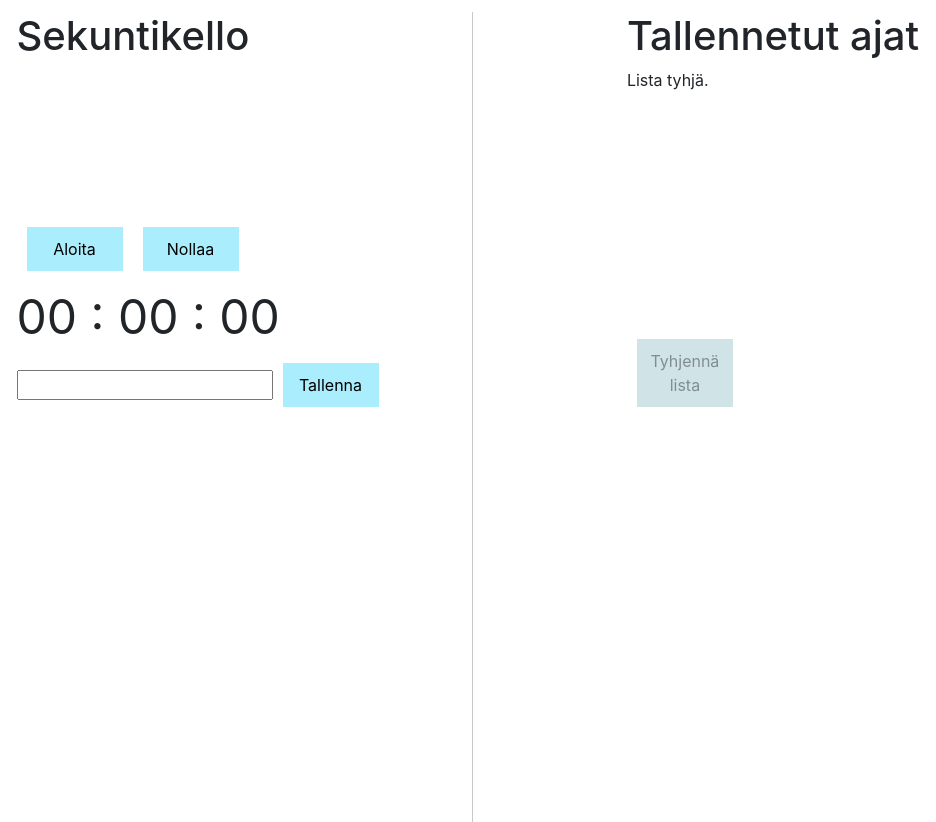
timer starts
The image size is (936, 822).
Expected: the text with test id "display" reads "00 : 00 : 00", [16, 287, 280, 346]
Click the button "Aloita".
click(74, 249)  # box [26, 227, 122, 271]
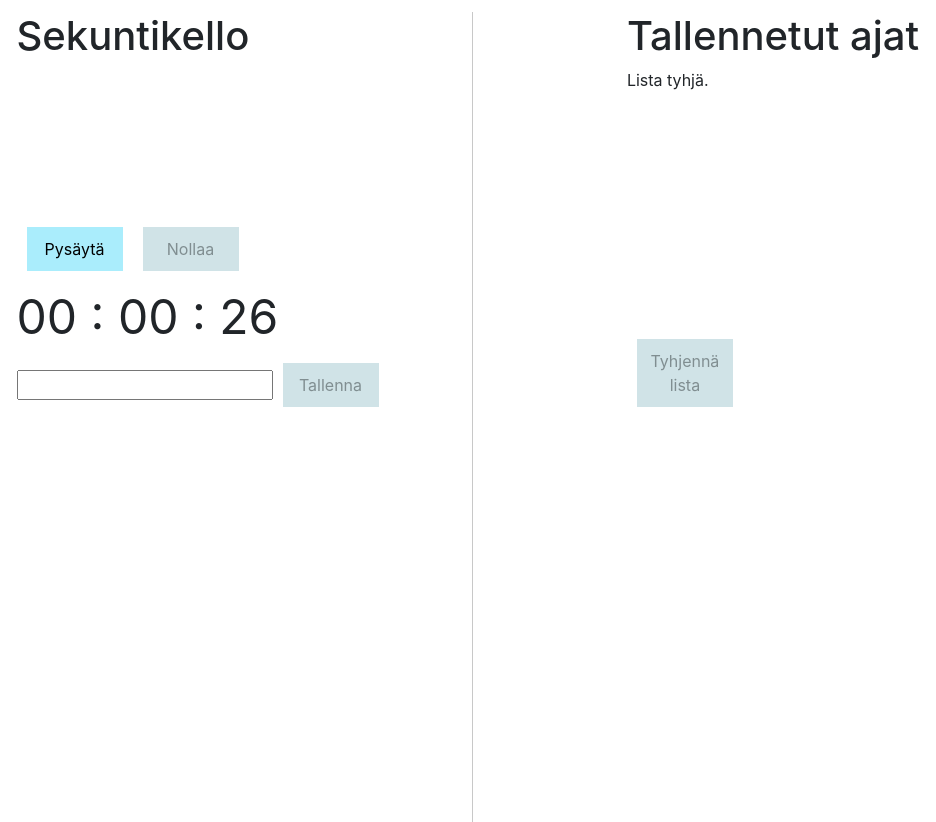
Expected: the text with test id "display" no longer shows "00 : 00 : 00", [16, 287, 278, 346]
